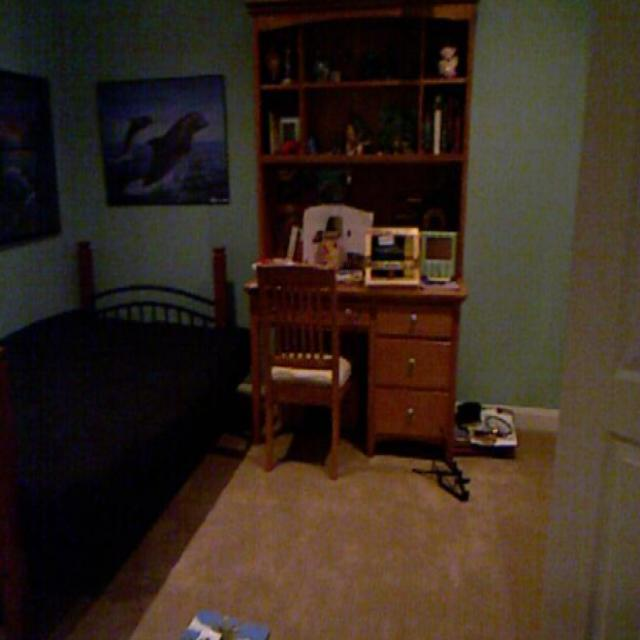Handle: (400, 394, 424, 428), (402, 302, 426, 331), (402, 345, 423, 374)
bed: (6, 291, 230, 572)
chair: (256, 268, 350, 484)
desk: (245, 222, 465, 471)
